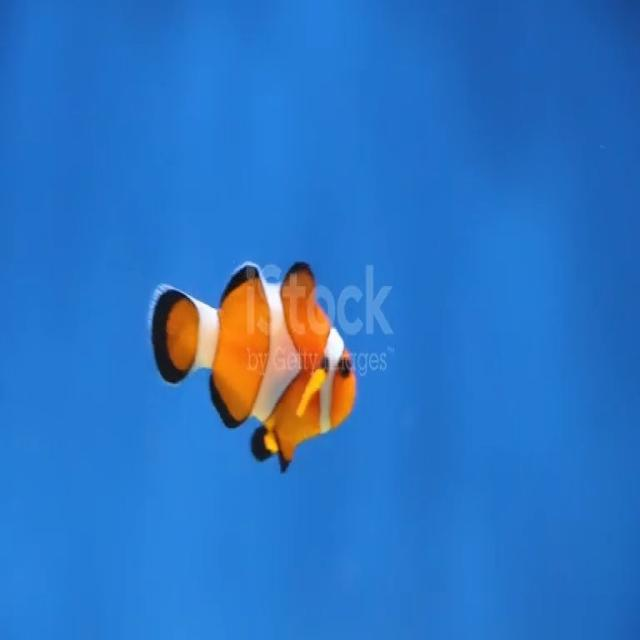fish: (146, 251, 359, 476)
